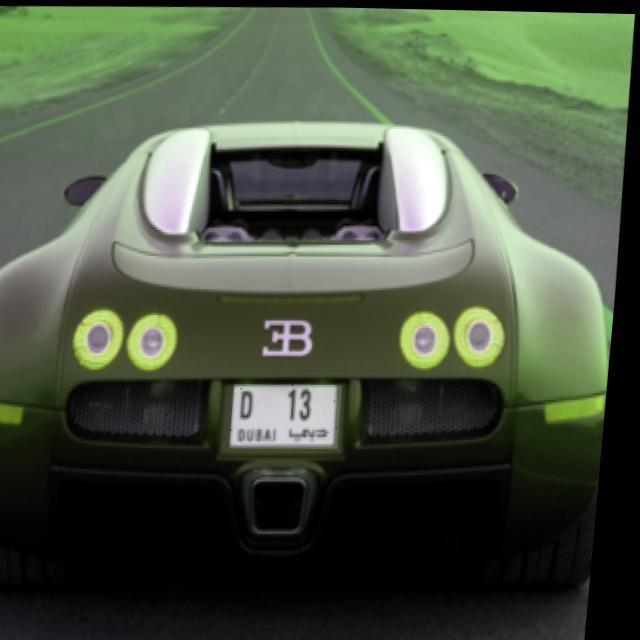license_plate: (236, 381, 350, 449)
